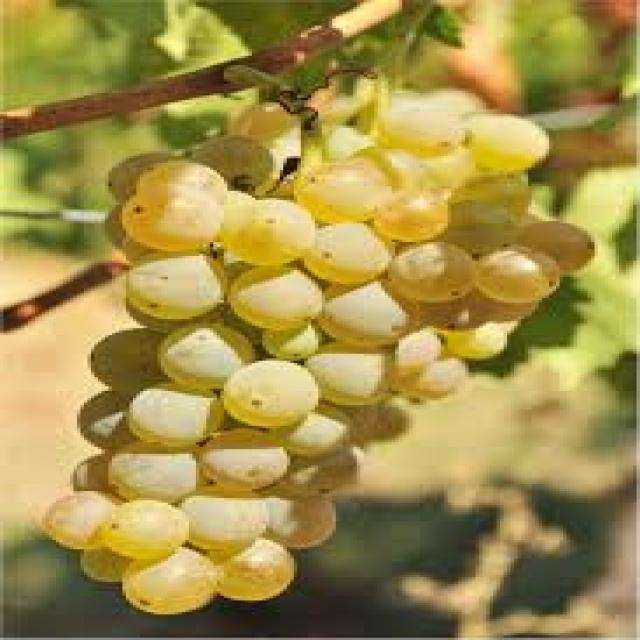Grapes: (397, 111, 543, 176), (108, 186, 228, 253), (126, 254, 227, 322), (102, 447, 211, 506), (135, 384, 227, 450), (130, 546, 219, 614), (106, 498, 189, 563), (165, 327, 251, 388), (204, 547, 299, 601), (331, 290, 417, 348), (245, 197, 318, 265), (183, 491, 273, 546), (319, 348, 402, 407), (201, 435, 295, 487), (240, 368, 322, 427), (392, 250, 476, 303), (314, 229, 399, 280), (303, 173, 390, 220), (487, 249, 560, 305), (238, 276, 318, 327), (446, 199, 519, 253), (57, 500, 117, 553), (389, 207, 447, 239)
